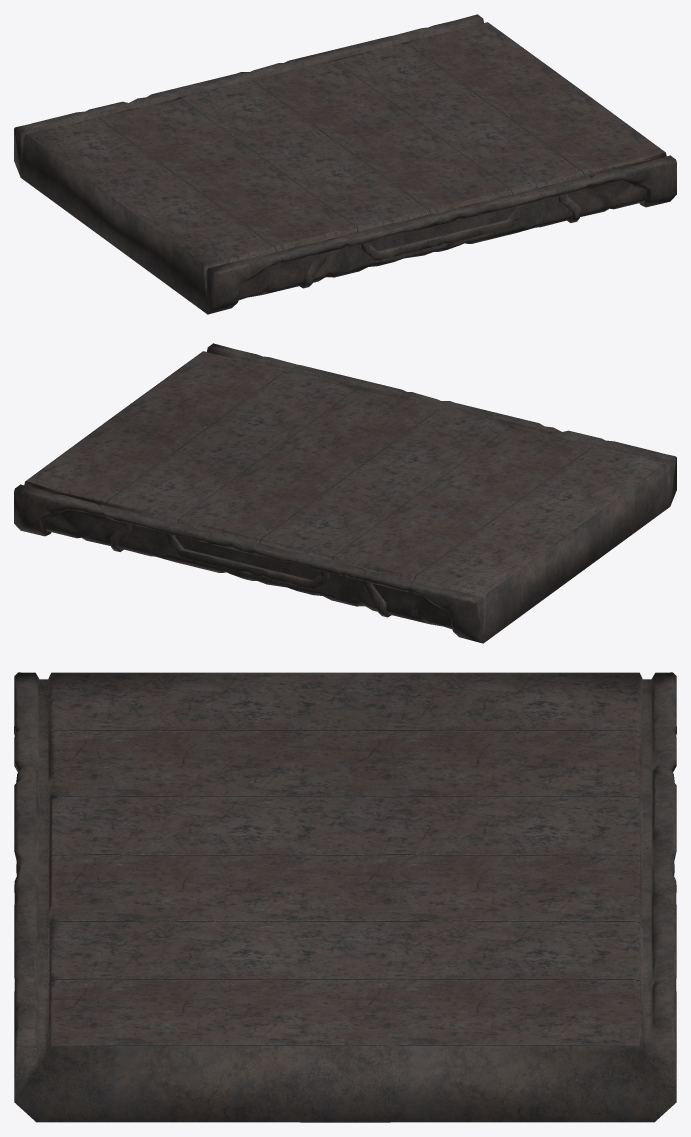
The model's file is SM_BridgeFloorDamaged.fbx.
The picture shows the model from 3 angles, top to bottom: view 1: azimuth 30°, elevation 25°; view 2: azimuth 150°, elevation 25°; view 3: azimuth 270°, elevation 25°; orthographic projection. The views are drawn at different scales.
Parts seen in each view (by area): view 1: SM_BridgeFloorDamaged_LOD0; view 2: SM_BridgeFloorDamaged_LOD0; view 3: SM_BridgeFloorDamaged_LOD0.
Part boxes in pixels (x1,y1,x2,y2): SM_BridgeFloorDamaged_LOD0: (14, 14, 676, 314); SM_BridgeFloorDamaged_LOD0: (14, 343, 676, 643); SM_BridgeFloorDamaged_LOD0: (14, 672, 676, 1122).
Size of the model in its own units: 600 by 450 by 57.69.
Materials: 3 (3 with a texture image).
